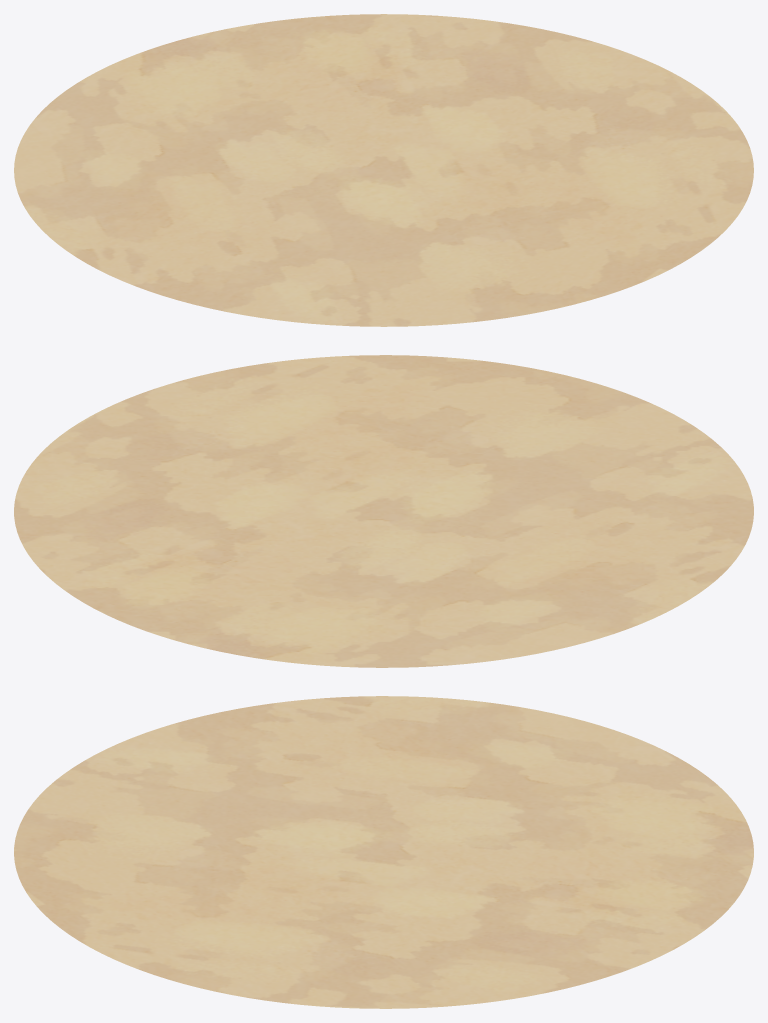
File: city_ground_top.fbx
3 renders of one model, top to bottom at view 1: azimuth 30°, elevation 25°; view 2: azimuth 150°, elevation 25°; view 3: azimuth 270°, elevation 25°, orthographic.
Parts seen in each view (by area): view 1: _Based Fin.010; view 2: _Based Fin.010; view 3: _Based Fin.010.
Part boxes in pixels (x1,y1,x2,y2): _Based Fin.010: (14,14,753,326); _Based Fin.010: (14,355,753,667); _Based Fin.010: (14,696,753,1008).
Bounding box in the file's own units: 11043 × 0.0018 × 11043.
